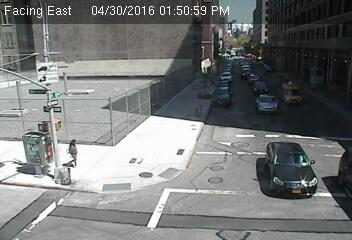neg: (296, 172, 316, 198), (203, 126, 220, 149), (88, 40, 103, 60), (126, 99, 141, 118), (194, 35, 208, 54), (240, 28, 254, 46), (288, 32, 301, 49), (168, 107, 180, 124), (278, 68, 290, 85), (227, 68, 239, 83), (106, 96, 117, 111), (317, 52, 328, 66), (196, 104, 204, 115)
pos: (61, 137, 83, 166)
